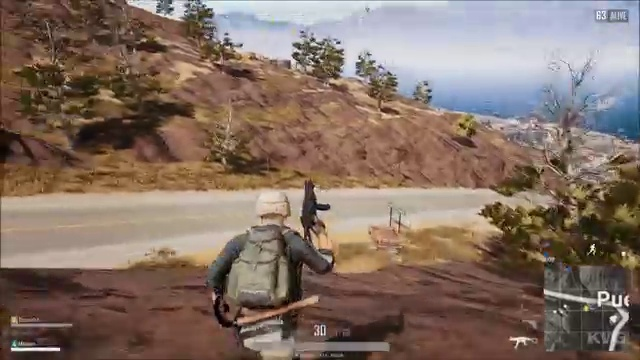Player: (201, 175, 355, 324)
